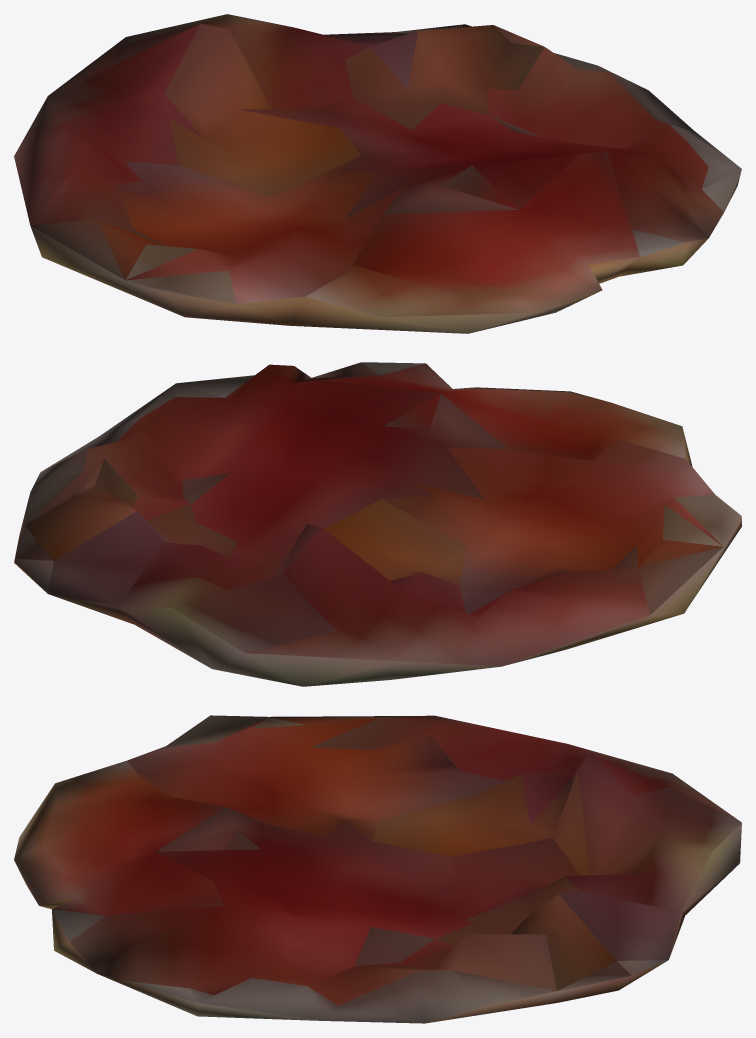
The model's file is sauce-ketchup.glb.
3 views of the same model, one above another, from view 1: azimuth 30°, elevation 25°; view 2: azimuth 150°, elevation 25°; view 3: azimuth 270°, elevation 25° (orthographic).
Parts seen in each view (by area): view 1: sauce-ketchup; view 2: sauce-ketchup; view 3: sauce-ketchup.
Part boxes in pixels (left/top/right/bottom): sauce-ketchup: left=14, top=14, right=741, bottom=333; sauce-ketchup: left=14, top=362, right=741, bottom=686; sauce-ketchup: left=14, top=715, right=741, bottom=1023.
Size of the model in its own units: 6.71 by 1.18 by 6.82.
Materials: 3 (2 with a texture image).
